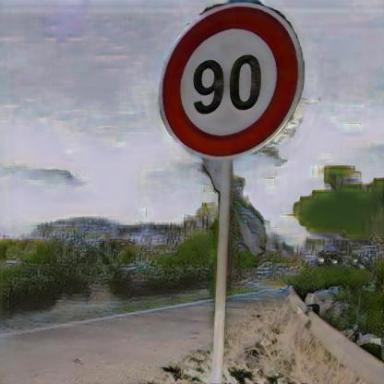Speed_limit_90: (159, 6, 306, 159)
